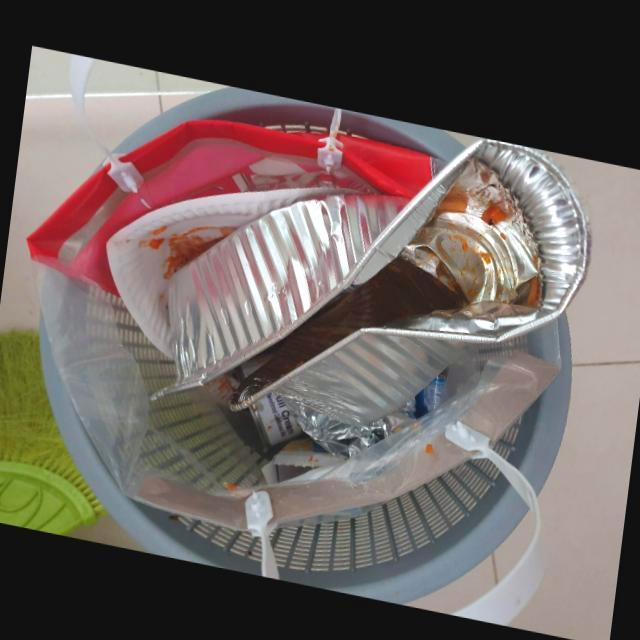aluminum: (149, 129, 590, 417), (282, 392, 376, 452), (249, 387, 300, 441)
cardboard: (104, 178, 361, 354), (259, 431, 346, 480)
